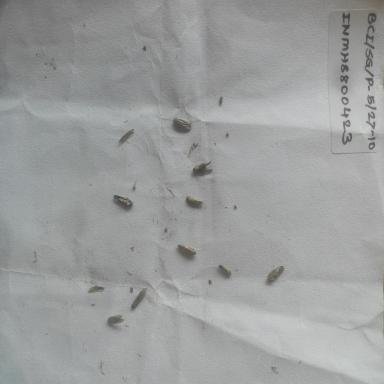pbw: (111, 188, 138, 215), (177, 238, 205, 264), (264, 260, 288, 286), (170, 116, 200, 136), (107, 310, 134, 332), (130, 283, 150, 312), (188, 157, 215, 178), (218, 255, 238, 283), (184, 188, 207, 210)
